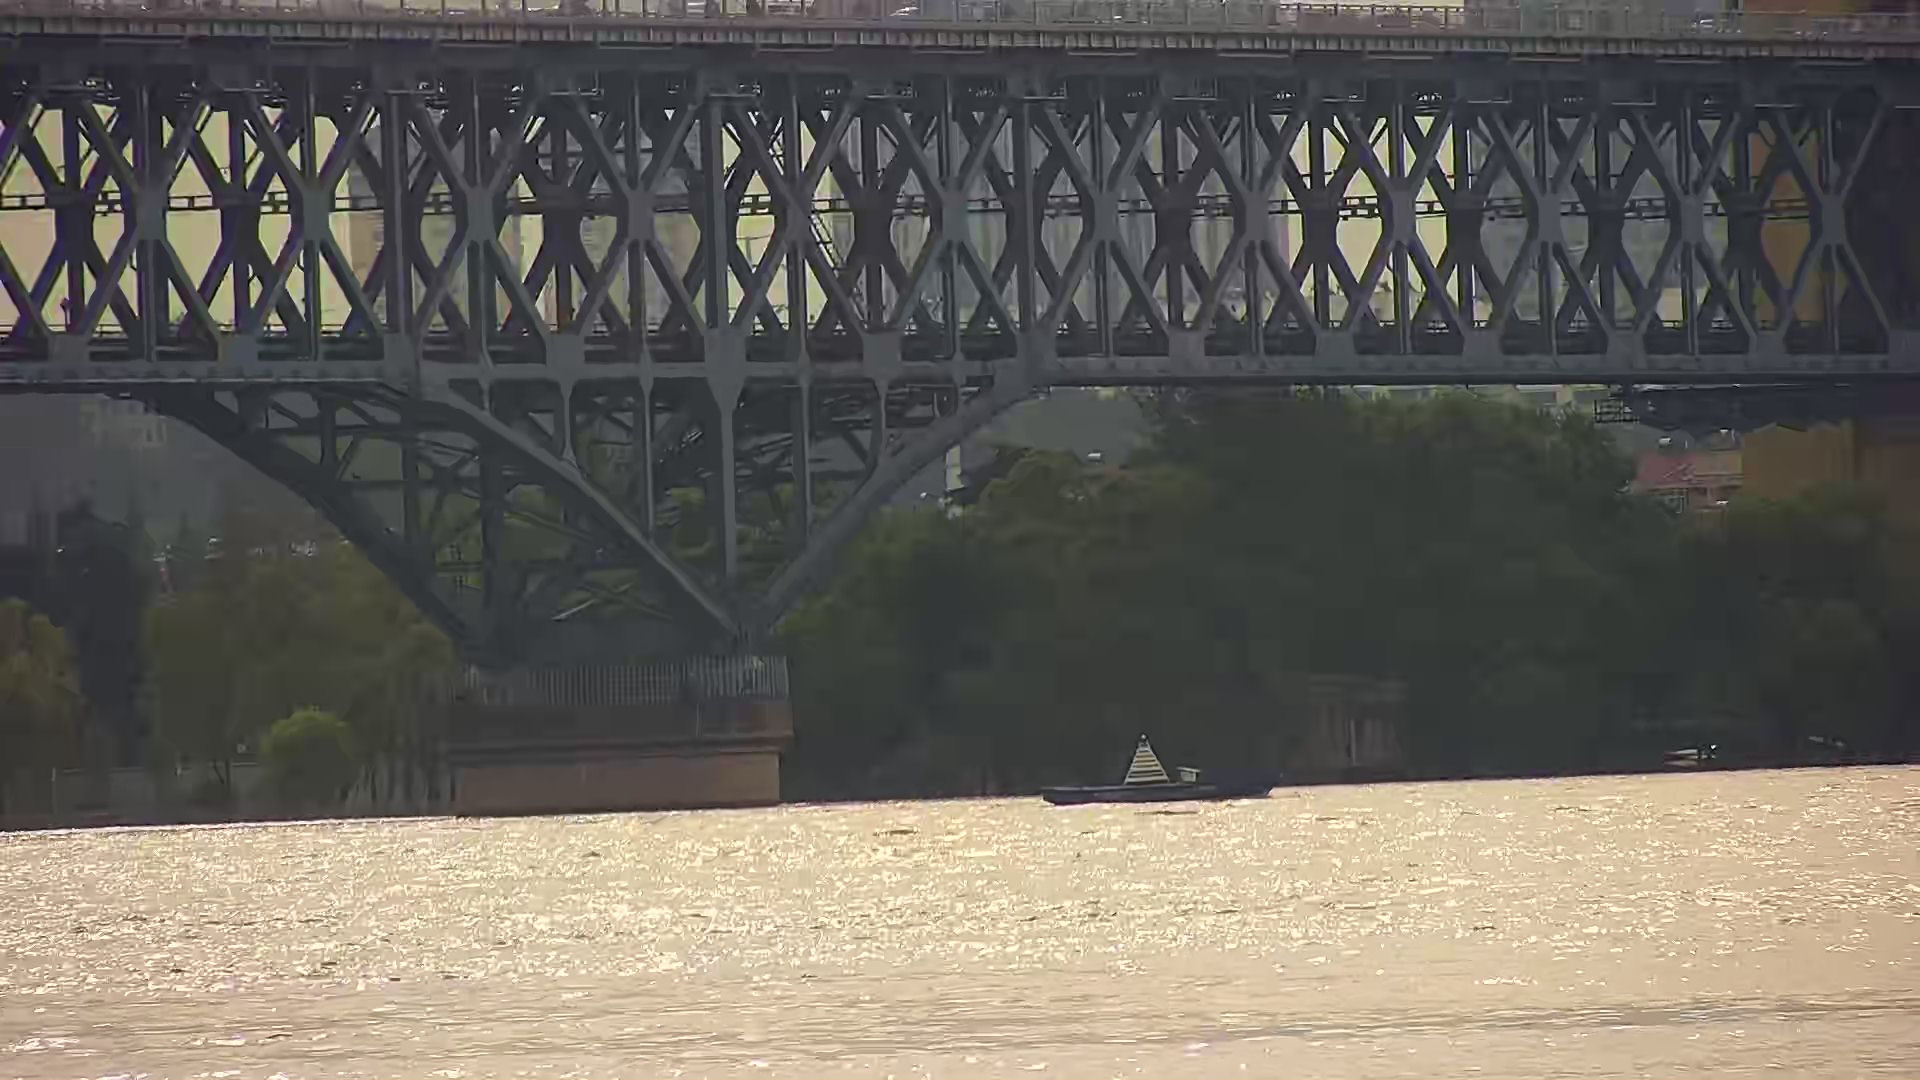boat: (1021, 721, 1284, 806)
bridge: (4, 1, 1920, 828)
